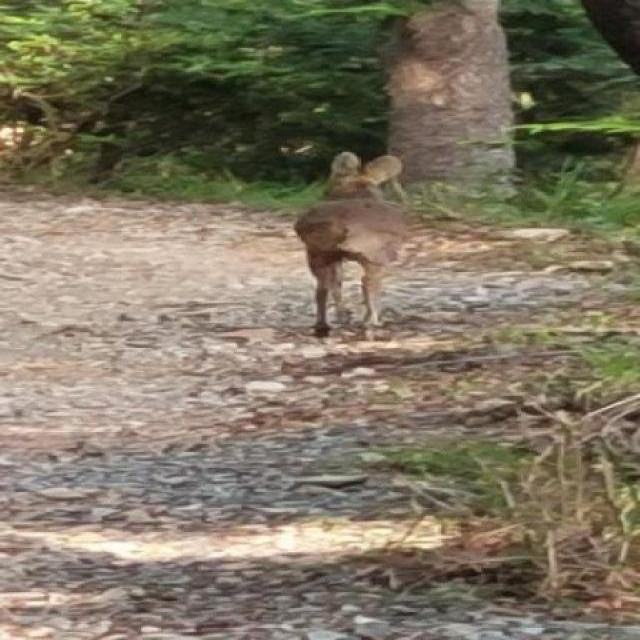deer: (284, 148, 421, 337)
